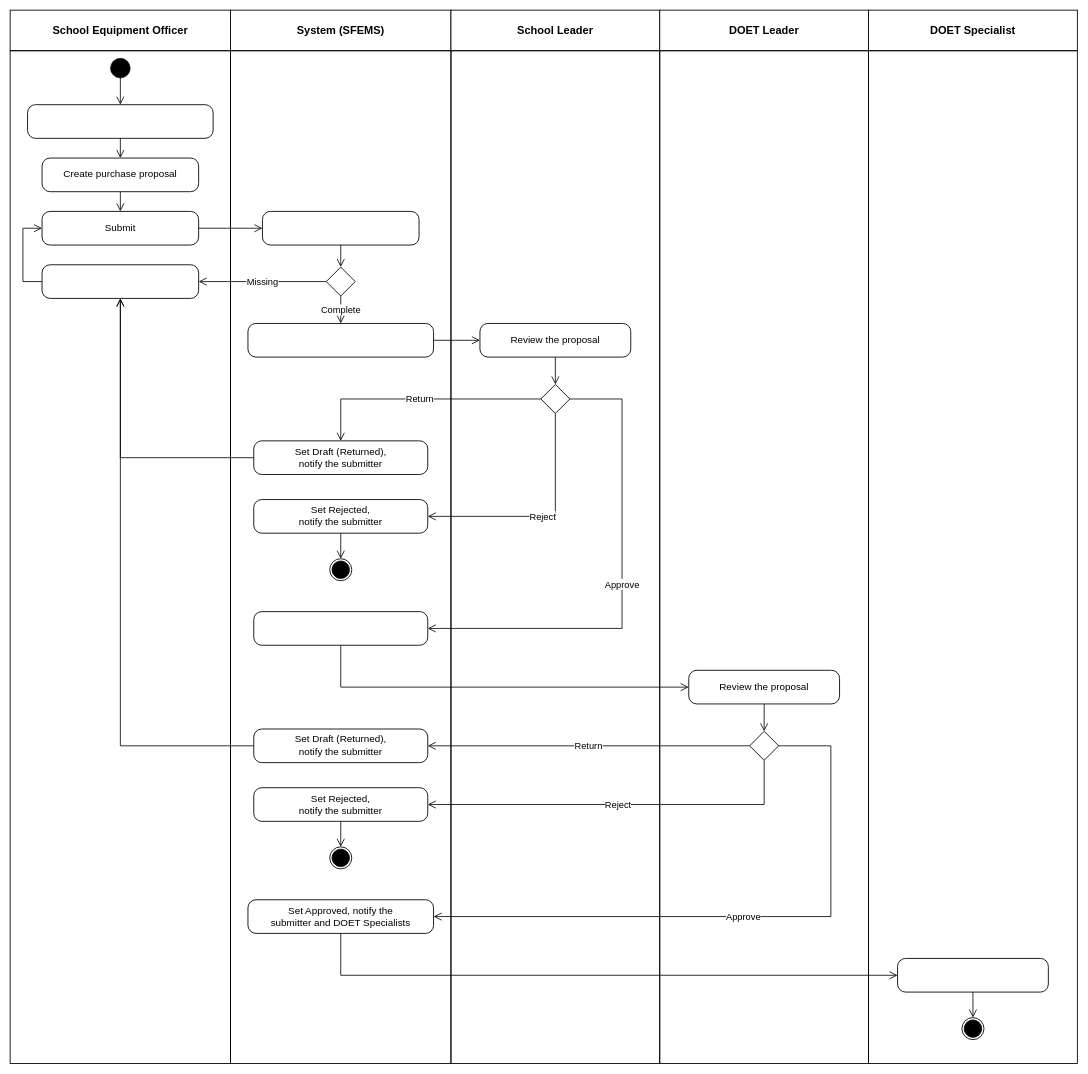
This 1088x1074 diagram has some shape labels left out. The shapes that lost their labels are listed below. From the top down, each one's centre as x and y in pixels, then its label:
point 120,121: View the coverage on the Minimum Requirements screen
point 340,228: Check the proposal
point 120,281: Edit the proposal
point 340,340: Give a number, set Pending, notify the School Leader
point 340,628: Move to the DOET step, notify the DOET Leader
point 973,975: Add to a procurement plan (BF-02)
